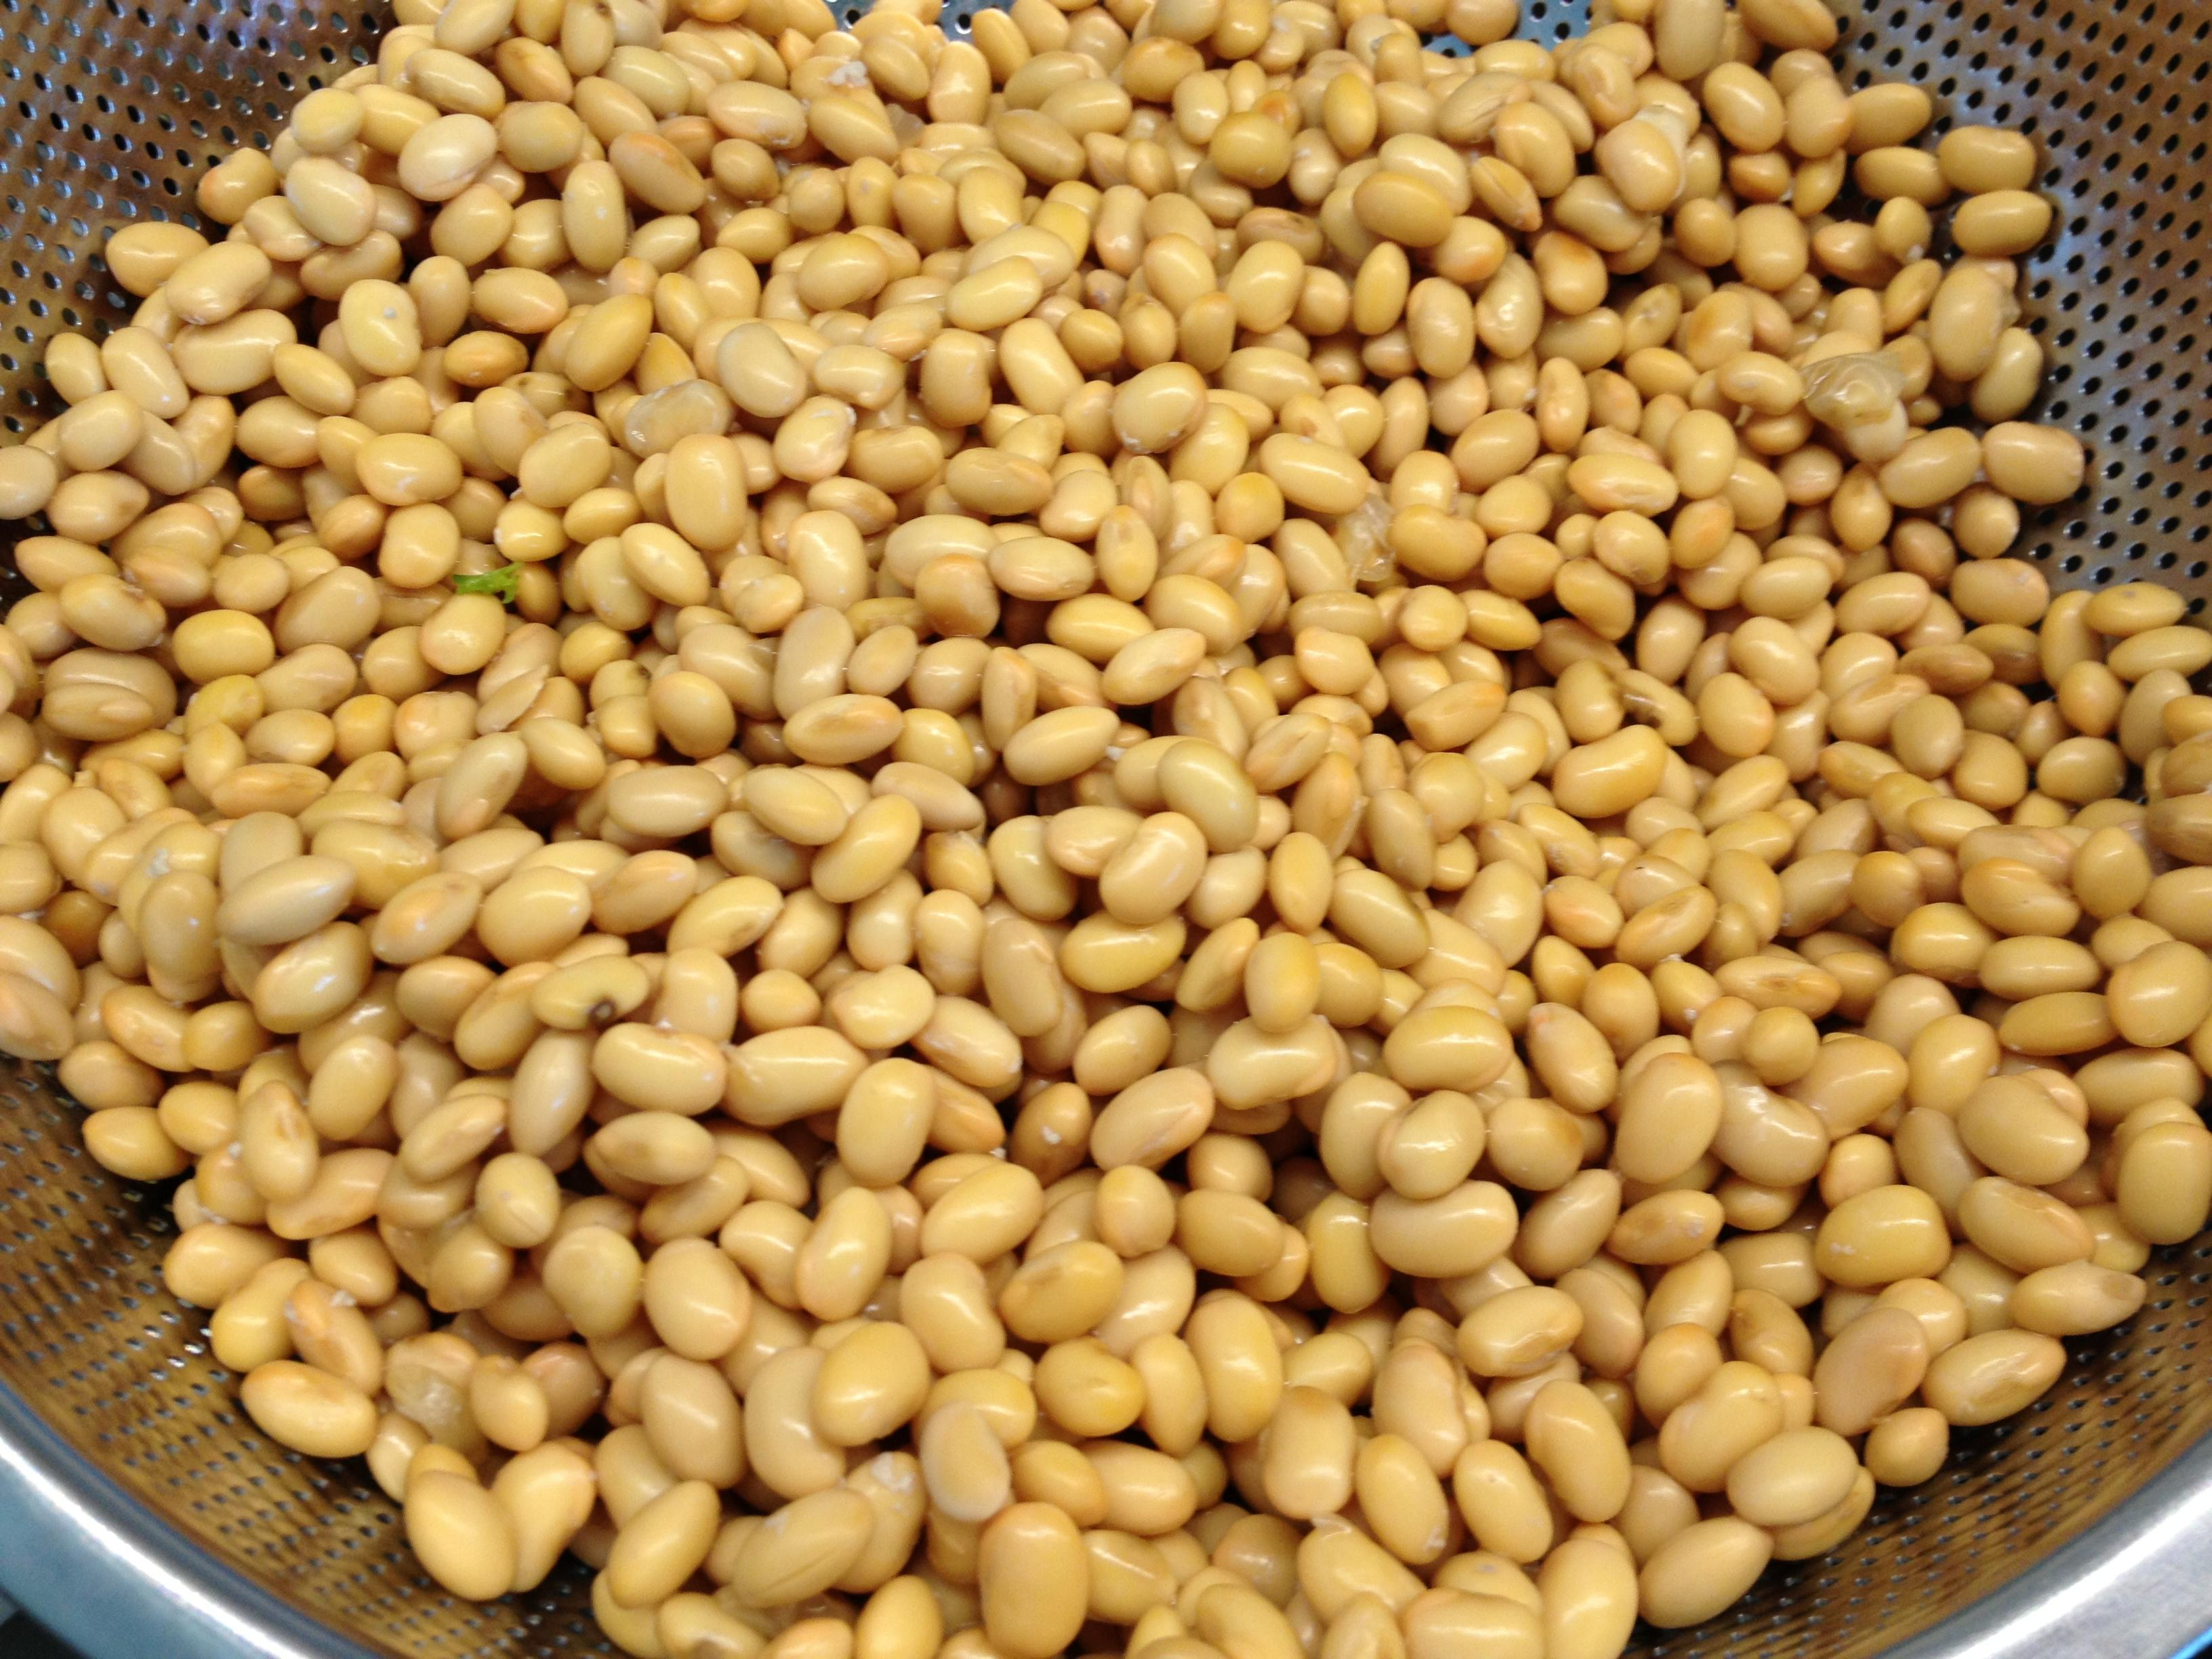peas: (2, 0, 2207, 1656)
